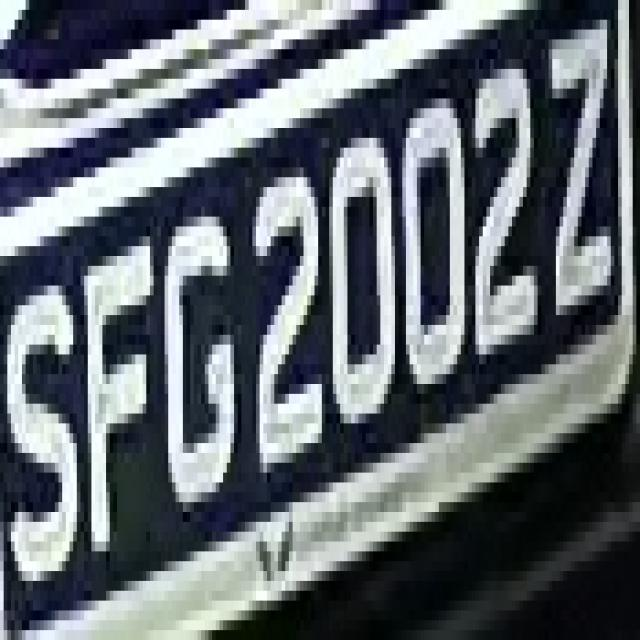0: (322, 108, 402, 453), (388, 69, 464, 413)
2: (249, 138, 329, 492), (461, 39, 545, 374)
F: (76, 226, 165, 581)
G: (154, 187, 242, 542)
S: (4, 256, 80, 630)
